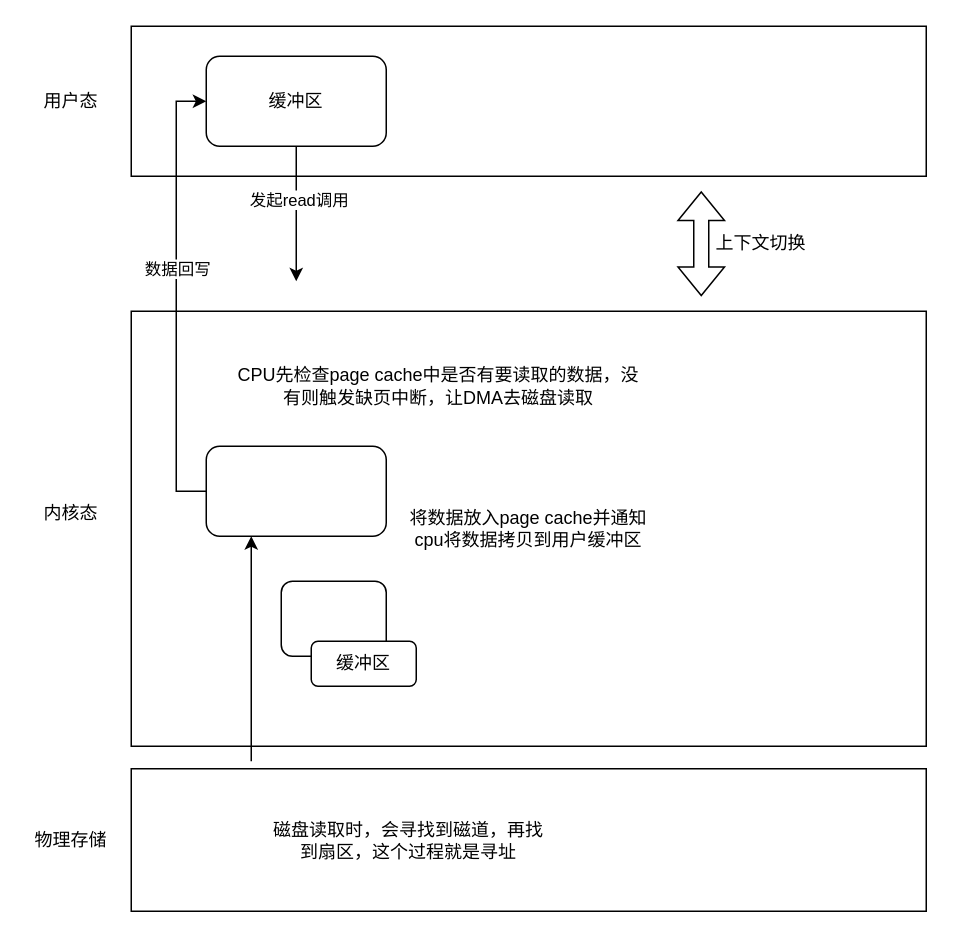
The diagram is 953 pixels wide and 938 high, and some of its shapes have lost their labels. The shapes that lost their labels are listed below. From the top down, each one's centre as x and y in pixels, then its label:
At pixel 295 490: "Page Cache".
At pixel 333 618: "DMA".
